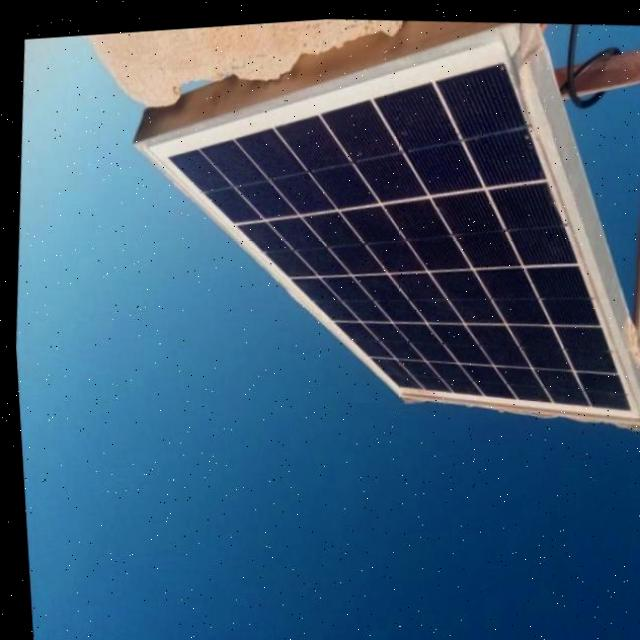Normal Solar Panel: (112, 0, 640, 452)
